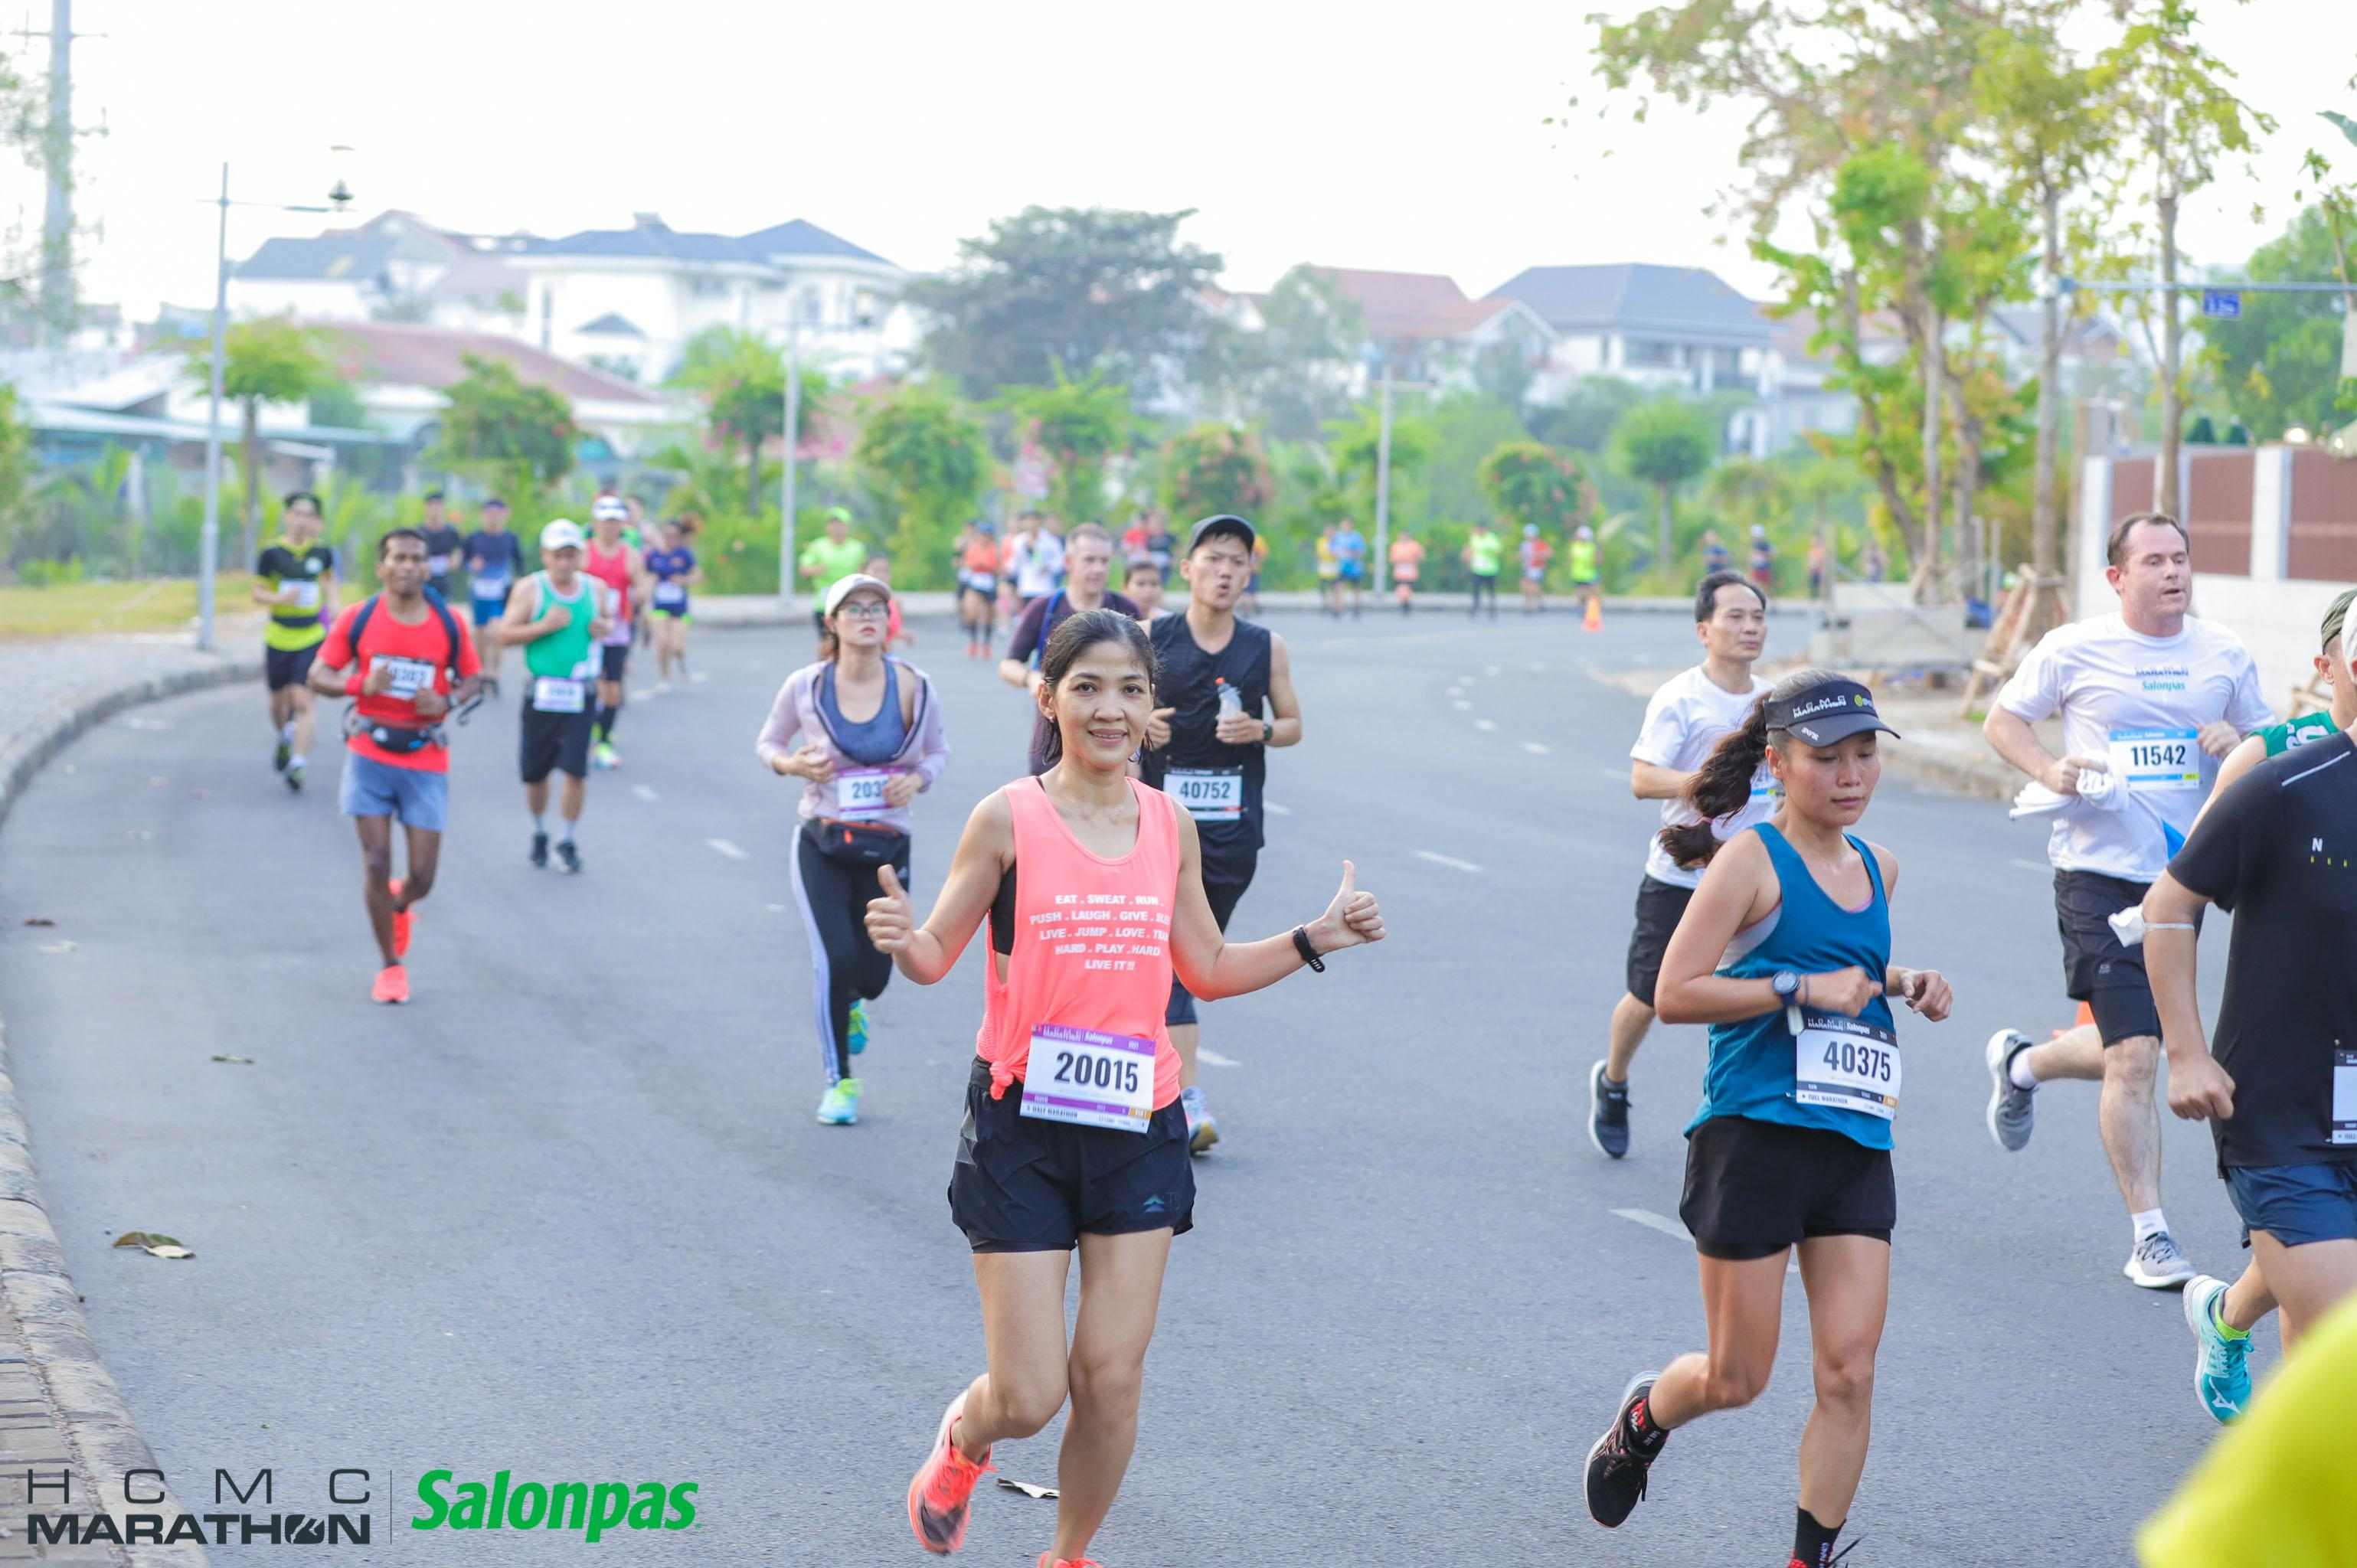bib: (1020, 1025, 1155, 1134), (1792, 1013, 1904, 1122), (2109, 728, 2198, 793), (1162, 765, 1242, 817), (836, 766, 905, 815), (371, 654, 436, 698), (534, 674, 586, 714)
